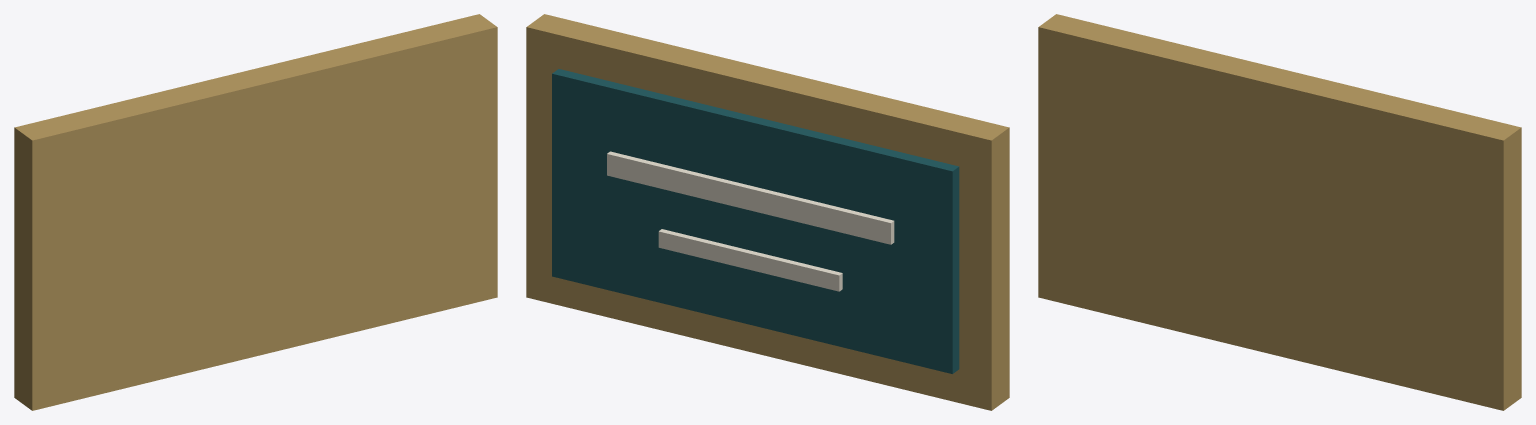
Rendered from VIC_E09_PLAQUE_Roblox.fbx.
3 views of the same model, side by side, from view 1: azimuth 30°, elevation 25°; view 2: azimuth 150°, elevation 25°; view 3: azimuth 330°, elevation 25° (orthographic).
Visible parts, largest first — view 1: VIC_E09_PLAQUE__Brass; view 2: VIC_E09_PLAQUE__Teal, VIC_E09_PLAQUE__Brass, VIC_E09_PLAQUE__Ivory; view 3: VIC_E09_PLAQUE__Brass.
Boxes of the visible parts, <box> form: VIC_E09_PLAQUE__Brass: <box>14,14,497,410</box>; VIC_E09_PLAQUE__Teal: <box>552,69,959,373</box>; VIC_E09_PLAQUE__Brass: <box>526,14,1009,410</box>; VIC_E09_PLAQUE__Ivory: <box>607,151,894,291</box>; VIC_E09_PLAQUE__Brass: <box>1038,14,1521,410</box>.
Size of the model in its own units: 1.8 by 1 by 0.1875.
